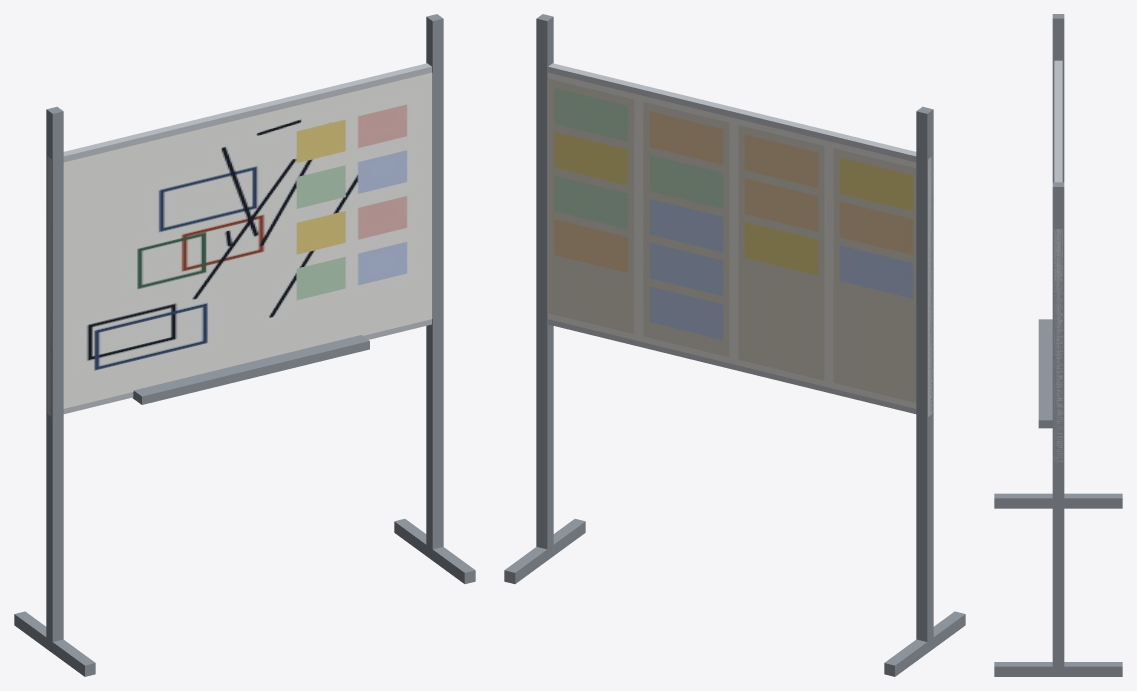
The model's file is quadro-branco.glb.
The picture shows the model from 3 angles, left to right: view 1: azimuth 30°, elevation 25°; view 2: azimuth 150°, elevation 25°; view 3: azimuth 270°, elevation 25°; orthographic projection. The views are drawn at different scales.
Parts seen in each view (by area): view 1: quadro-branco_malha; view 2: quadro-branco_malha; view 3: quadro-branco_malha.
Part boxes in pixels (x1=…): quadro-branco_malha: x1=14, y1=14, x2=475, y2=676; quadro-branco_malha: x1=504, y1=14, x2=965, y2=676; quadro-branco_malha: x1=994, y1=14, x2=1122, y2=676.
Bounding box in the file's own units: 1.44 × 1.9 × 0.45.
3 materials, 1 textured.
